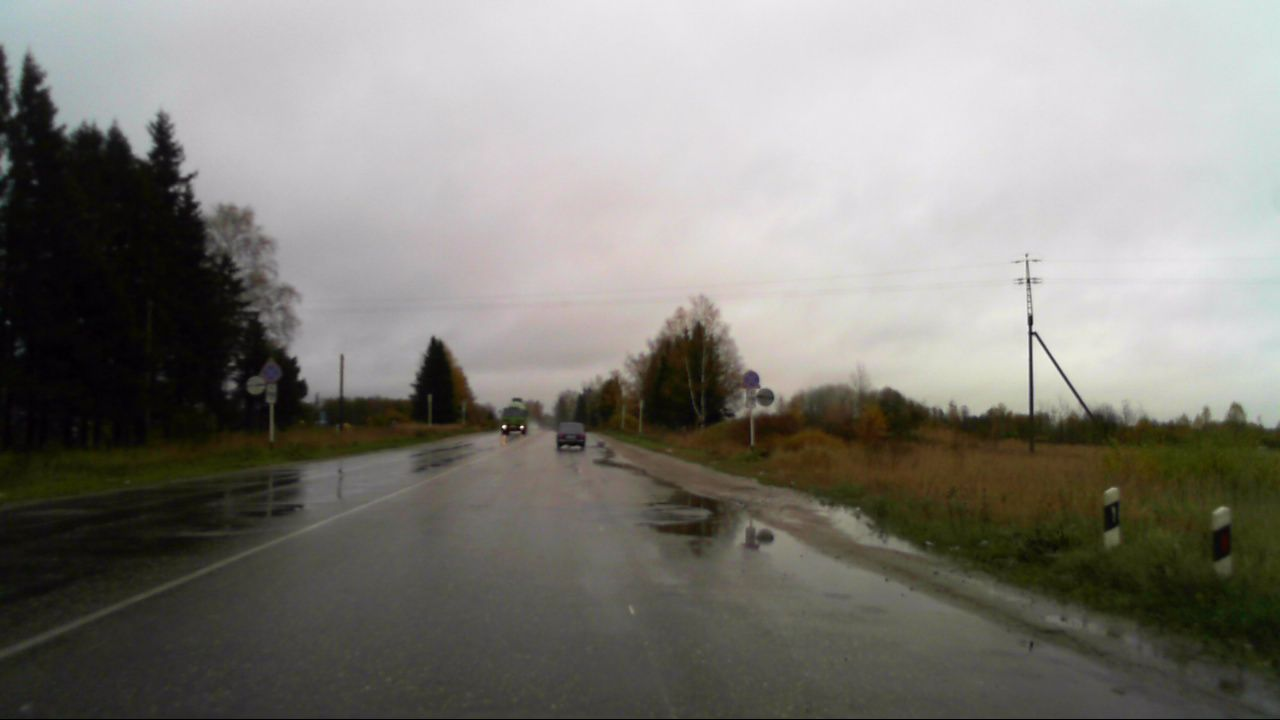No Parking: (260, 361, 281, 382)
